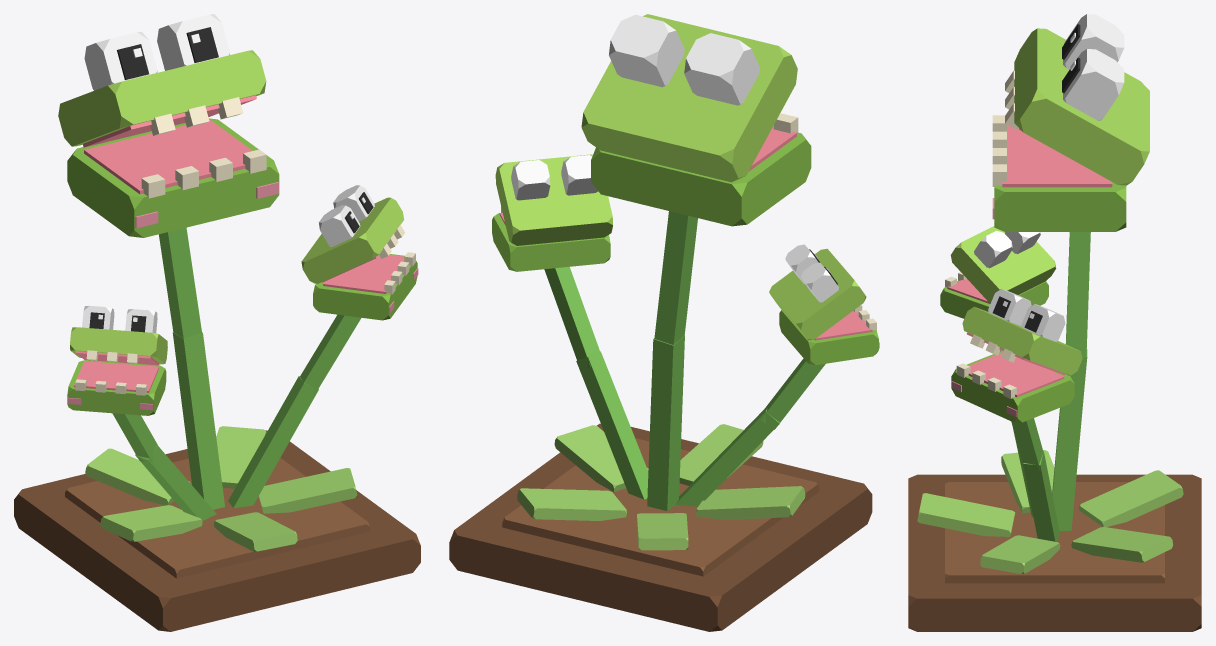
Rendered from venus-flytrap-poly-by-google_0y4ZpRcGhoD-blocky.glb.
3 views of the same model, side by side, from view 1: azimuth 30°, elevation 25°; view 2: azimuth 150°, elevation 25°; view 3: azimuth 270°, elevation 25° (orthographic). The views are drawn at different scales.
Parts seen in each view (by area): view 1: VenusFlyTrap_mesh; view 2: VenusFlyTrap_mesh; view 3: VenusFlyTrap_mesh.
Boxes of the visible parts, left/top/right/bottom form: VenusFlyTrap_mesh: left=14, top=14, right=420, bottom=631; VenusFlyTrap_mesh: left=449, top=14, right=879, bottom=631; VenusFlyTrap_mesh: left=908, top=14, right=1201, bottom=631.
Bounding box in the file's own units: 7.85 × 10.78 × 5.6.
1 material, 1 textured.
